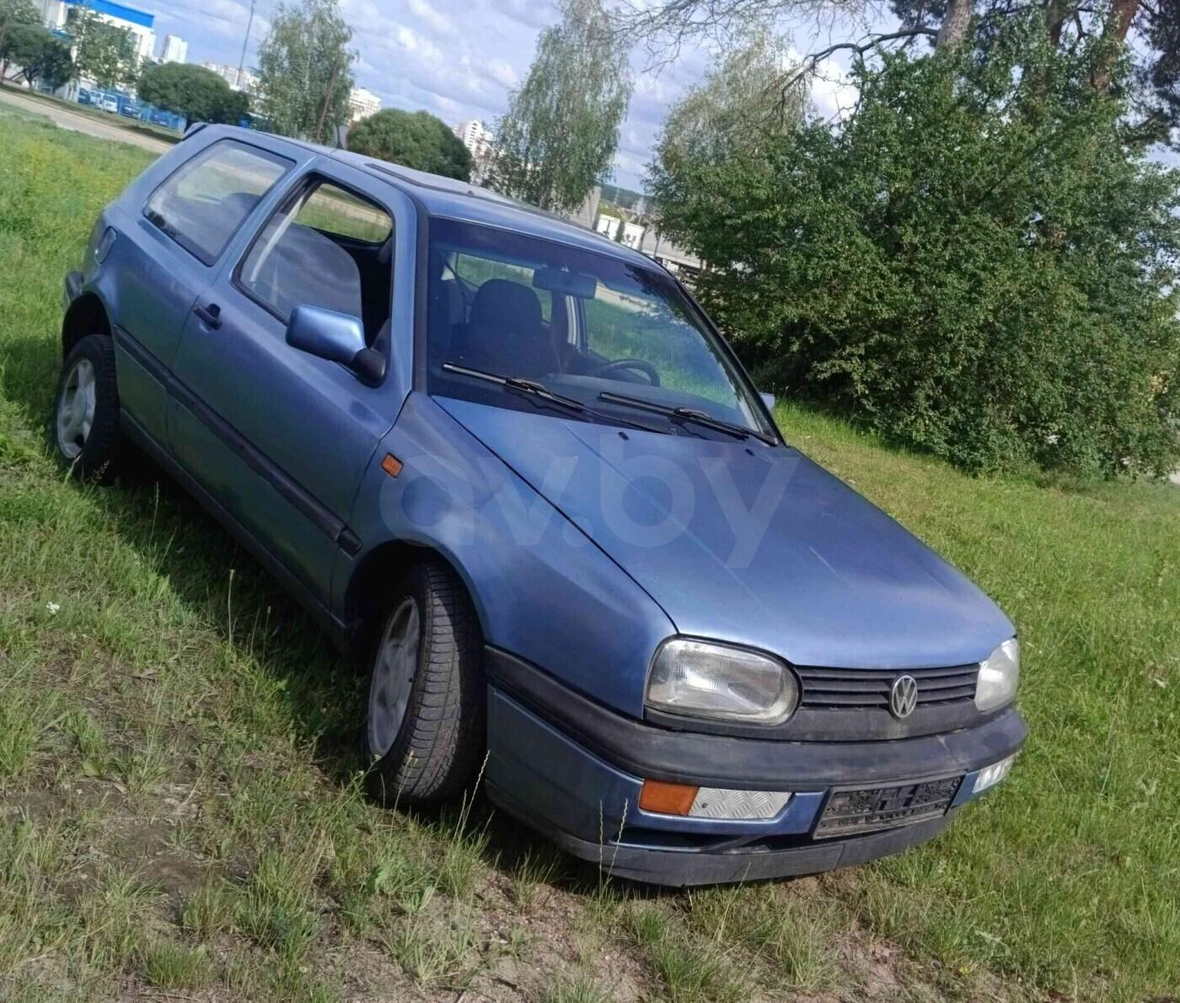Golf_1991-2000: (53, 127, 1025, 887)
